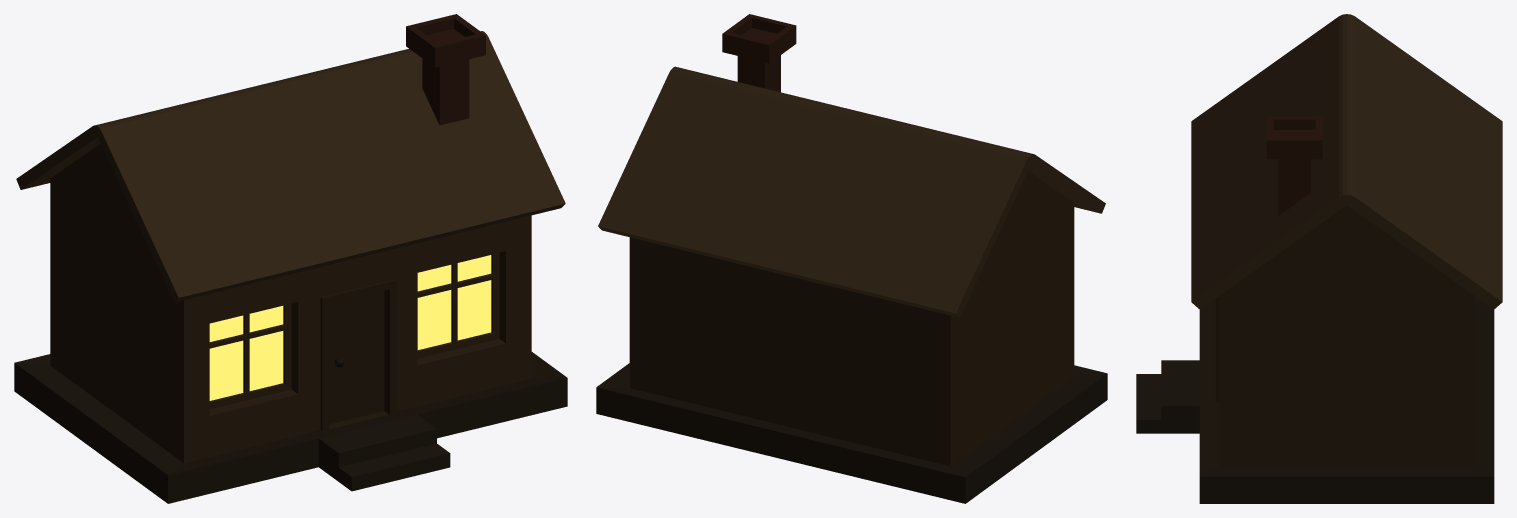
File: house.glb
3 renders of one model, left to right at view 1: azimuth 30°, elevation 25°; view 2: azimuth 150°, elevation 25°; view 3: azimuth 270°, elevation 25°, orthographic. The views are drawn at different scales.
Parts seen in each view (by area): view 1: HouseWalls, Roof, Window, Door, Chimney; view 2: HouseWalls, Roof, Chimney; view 3: HouseWalls, Roof, Chimney, Door.
Part boxes in pixels (box(x1,y1,x2,y2)): HouseWalls: box(14, 144, 567, 503); Roof: box(16, 31, 565, 302); Window: box(209, 252, 499, 409); Door: box(320, 279, 396, 430); Chimney: box(406, 14, 485, 125); HouseWalls: box(596, 171, 1107, 503); Roof: box(598, 66, 1105, 317); Chimney: box(722, 14, 796, 92); HouseWalls: box(1136, 205, 1494, 503); Roof: box(1191, 14, 1502, 309); Chimney: box(1266, 116, 1322, 216); Door: box(1215, 296, 1218, 402).
Bounding box in the file's own units: 8.28 × 7.07 × 6.86.
